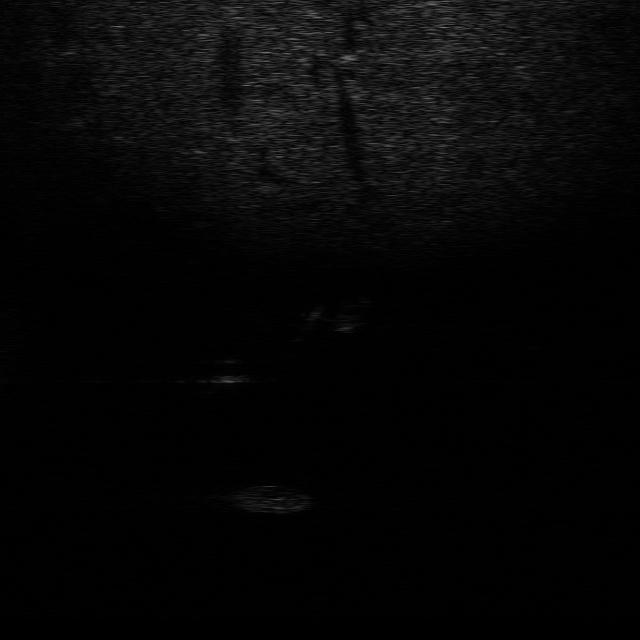ball: (198, 356, 254, 391)
circle cage: (215, 481, 314, 516)
human body: (295, 296, 376, 347)
